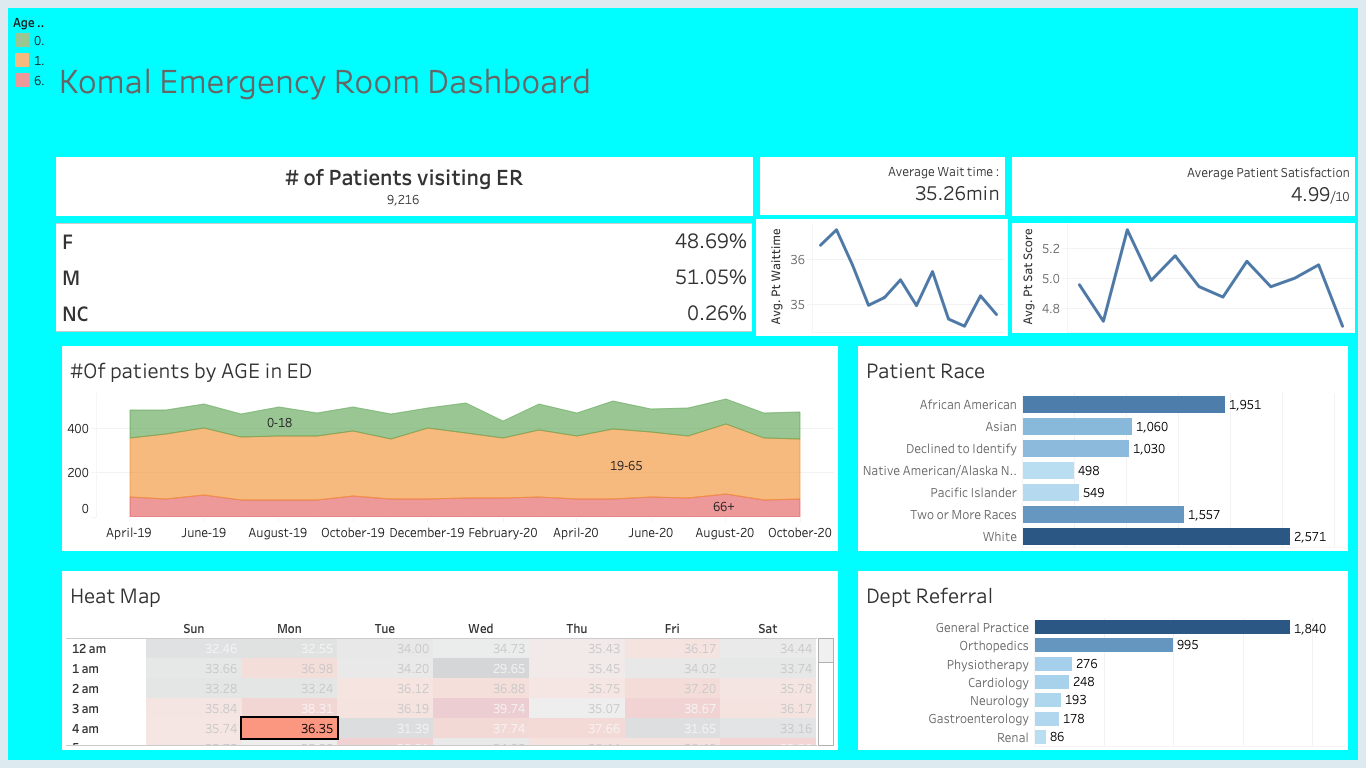

The page's visual inventory and layout, read from the dashboard file:
{"tool":"tableau","page":{"name":"Dashboard 1","canvas":[1366,768],"ordinal":0},"visuals":[{"type":"legend","title":"#Of patients by AGE in ED","param":"[federated.0yq7rz80rqly7h1ekyk181p5i21a].[none:Calculation_783837456528035841:nk","box":[8,8,269,86]},{"type":"text","box":[277,8,1081,145]},{"type":"worksheet","title":"Patient Count","mark":"Automatic","box":[277,153,479,66]},{"type":"worksheet","title":"Paitient Wait","mark":"Automatic","box":[756,153,252,66]},{"type":"worksheet","title":"Average Patient Satisfaction","mark":"Automatic","box":[1008,153,350,66]},{"type":"worksheet","title":"Gender","mark":"Automatic","rows":["patient_gender"],"box":[277,219,479,117]},{"type":"worksheet","title":"Patient Wait time average","mark":"Automatic","rows":["patient_waittime"],"cols":["date"],"box":[756,219,252,117]},{"type":"worksheet","title":"Patient Satisfaction","mark":"Automatic","rows":["patient_sat_score"],"cols":["date"],"box":[1008,219,350,117]},{"type":"worksheet","title":"#Of patients by AGE in ED","mark":"Area","rows":["patient_id"],"cols":["date"],"box":[287,346,551,205]},{"type":"worksheet","title":"Patient Race","mark":"Automatic","rows":["patient_race"],"cols":["patient_id"],"box":[858,346,490,205]},{"type":"worksheet","title":"Heat Map","mark":"Square","rows":["date"],"cols":["date"],"box":[287,571,551,179]},{"type":"worksheet","title":"Dept Referral","mark":"Automatic","rows":["department_referral"],"cols":["patient_id"],"box":[858,571,490,179]}]}

Visuals, with their boxes in screenshot pixels (x1, y1, x2, y2), scaled from the page's 1366x768 canvas onto the 1366x768 screenshot:
"#Of patients by AGE in ED" legend: locate(8, 8, 277, 94)
text: locate(277, 8, 1358, 153)
"Patient Count" worksheet: locate(277, 153, 756, 219)
"Paitient Wait" worksheet: locate(756, 153, 1008, 219)
"Average Patient Satisfaction" worksheet: locate(1008, 153, 1358, 219)
"Gender" worksheet: locate(277, 219, 756, 336)
"Patient Wait time average" worksheet: locate(756, 219, 1008, 336)
"Patient Satisfaction" worksheet: locate(1008, 219, 1358, 336)
"#Of patients by AGE in ED" worksheet (Area marks): locate(287, 346, 838, 551)
"Patient Race" worksheet: locate(858, 346, 1348, 551)
"Heat Map" worksheet (Square marks): locate(287, 571, 838, 750)
"Dept Referral" worksheet: locate(858, 571, 1348, 750)
